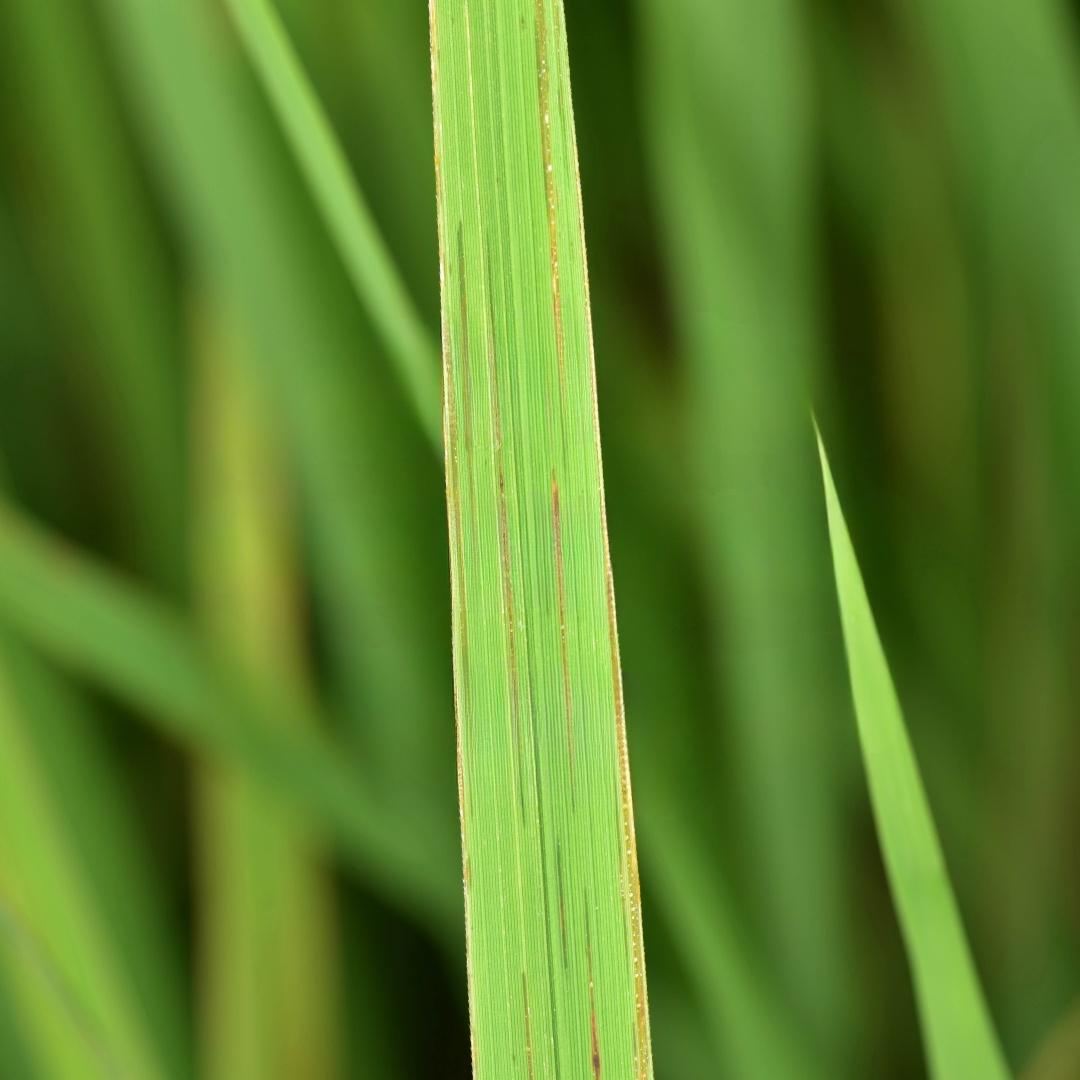BLS: (571, 89, 654, 1079), (429, 0, 478, 1079), (485, 231, 523, 826), (535, 0, 567, 414), (552, 469, 571, 727), (457, 221, 472, 452), (588, 946, 601, 1078), (557, 840, 567, 969), (521, 972, 533, 1079)
LEAF: (429, 0, 655, 1079)
